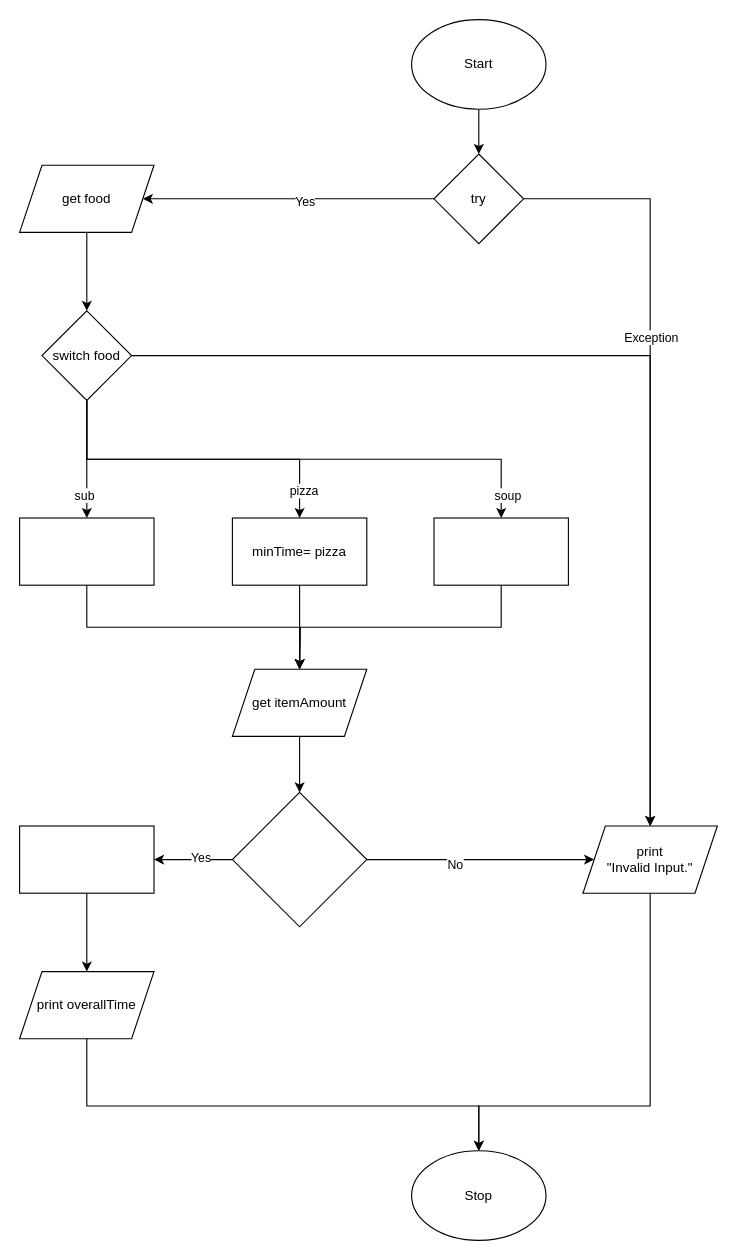
This 737x1260 diagram has some shape labels left out. Here are the shapes that lost their labels. From the top down, the centre of each, then its label:
pixel 86 551: minTime = sub
pixel 500 551: minTime = soup
pixel 86 859: overallTime = itemAmountInt * minTime
pixel 299 859: !(itemAmountInt > 3)
